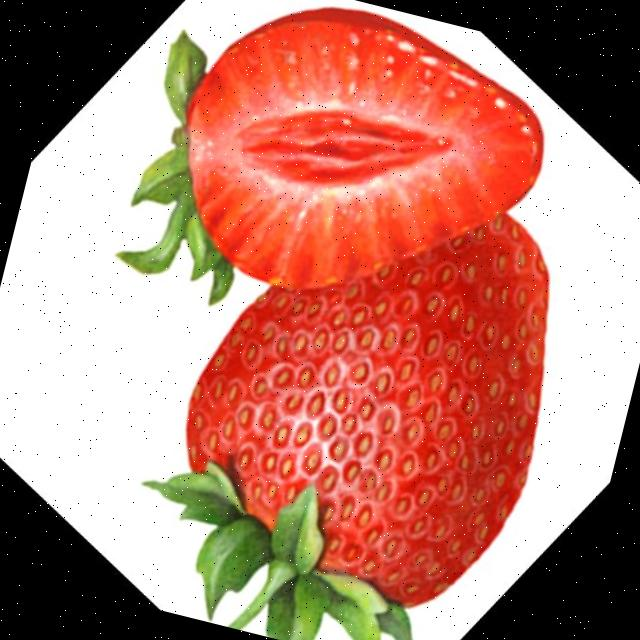strawberry: (144, 214, 547, 640), (119, 7, 541, 303)
